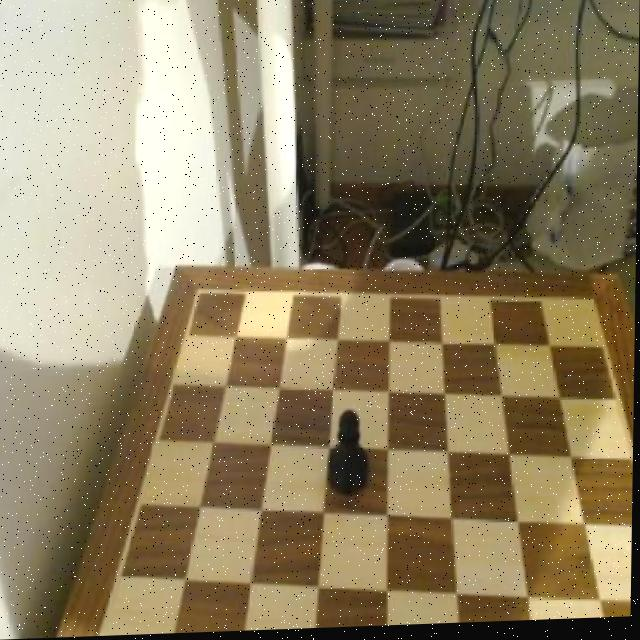black-knight: (323, 404, 377, 502)
